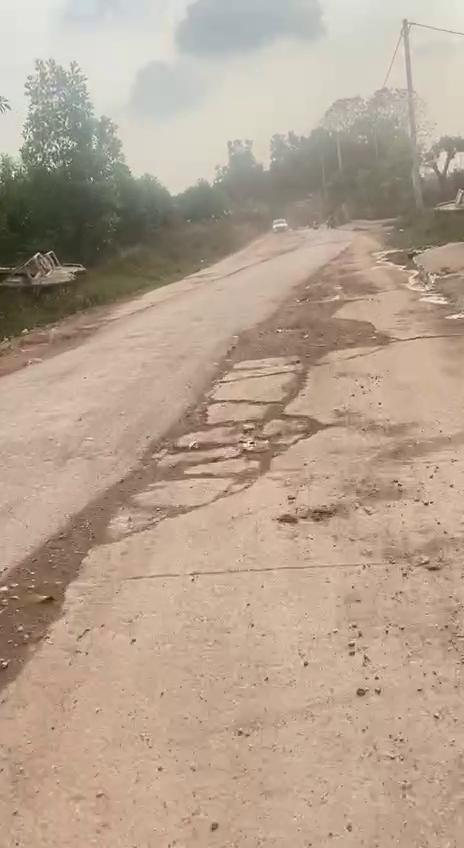pothole: (152, 391, 320, 499)
